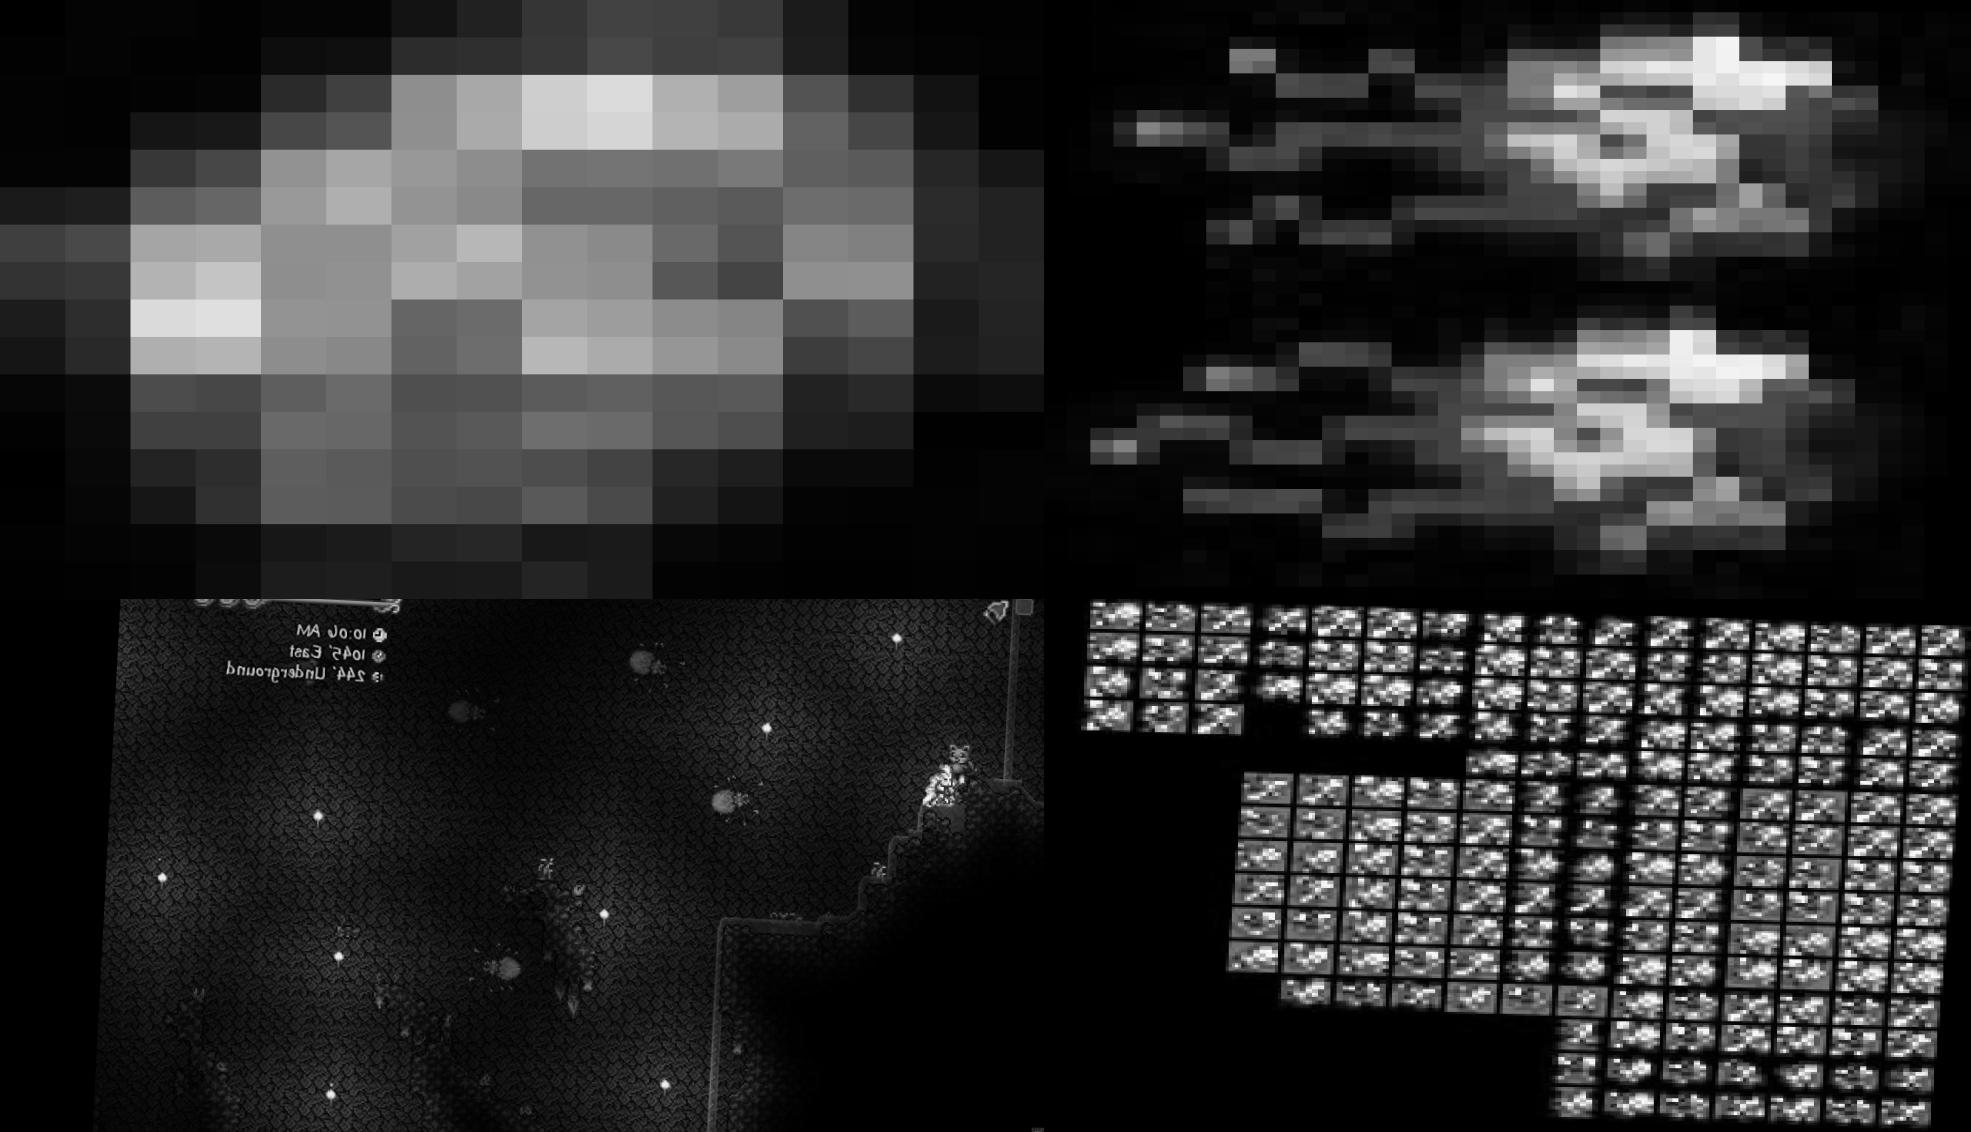eye: (1113, 0, 1971, 282)
ore: (0, 0, 1044, 598)
silver: (1913, 623, 1971, 658)
spider: (699, 765, 772, 833)
